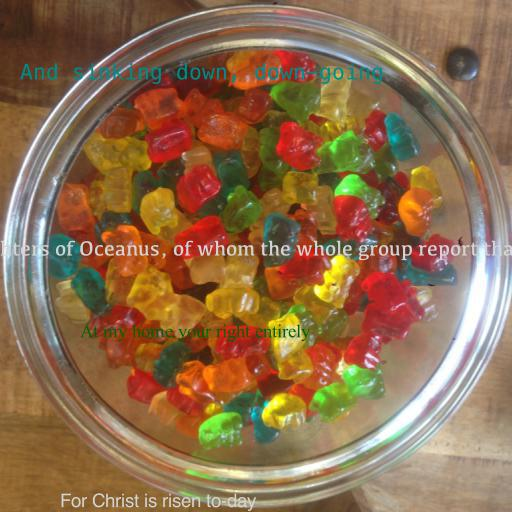Kefa: (0, 240, 512, 261)
Menlo: (20, 63, 384, 84)
SignPainter: (60, 493, 256, 512)
Times New Roman: (80, 324, 310, 342)
